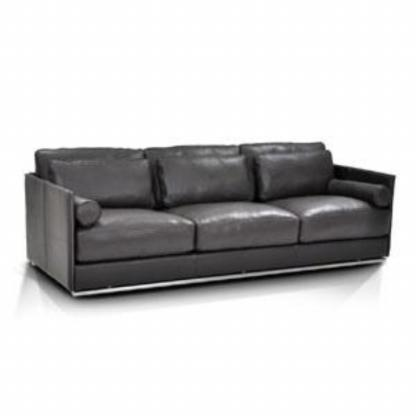Sofa: (24, 141, 396, 298)
